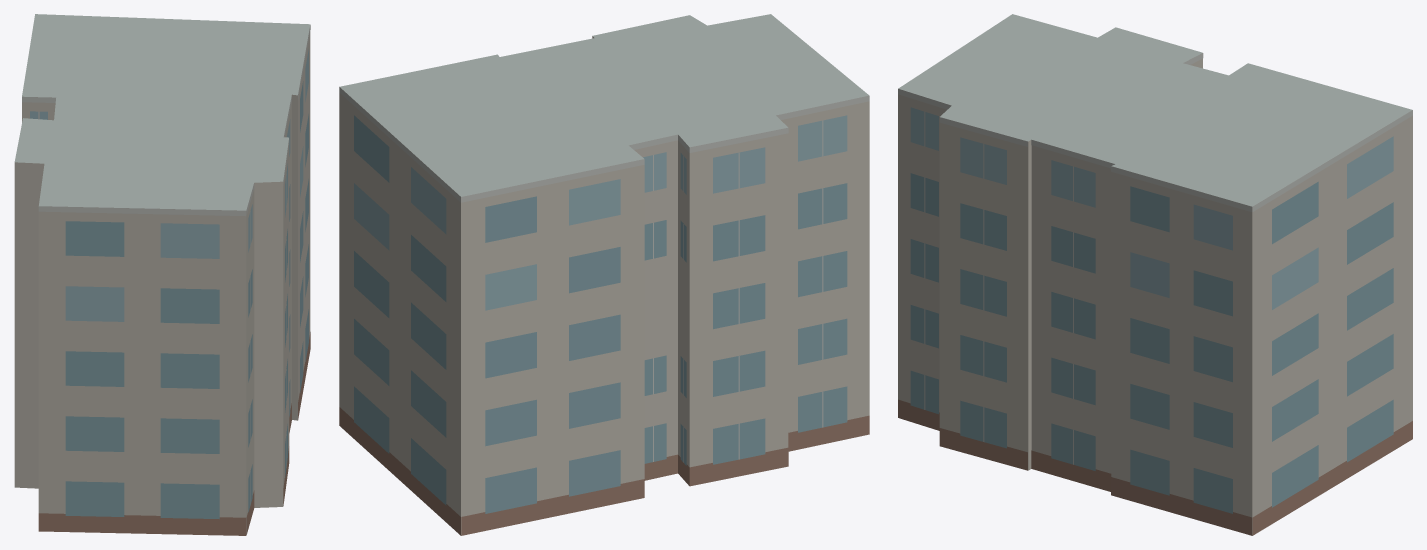
File: survey-upis-32953605.glb
3 renders of one model, left to right at view 1: azimuth 30°, elevation 25°; view 2: azimuth 150°, elevation 25°; view 3: azimuth 270°, elevation 25°, orthographic. The views are drawn at different scales.
Parts seen in each view (by area): view 1: survey-upis-32953605.tmp; view 2: survey-upis-32953605.tmp; view 3: survey-upis-32953605.tmp.
Boxes of the visible parts, box(x1,y1,x2,y2) form: survey-upis-32953605.tmp: box(14, 14, 310, 535); survey-upis-32953605.tmp: box(339, 14, 869, 535); survey-upis-32953605.tmp: box(898, 14, 1412, 535).
Size of the model in its own units: 18.09 by 14.4 by 20.42.
